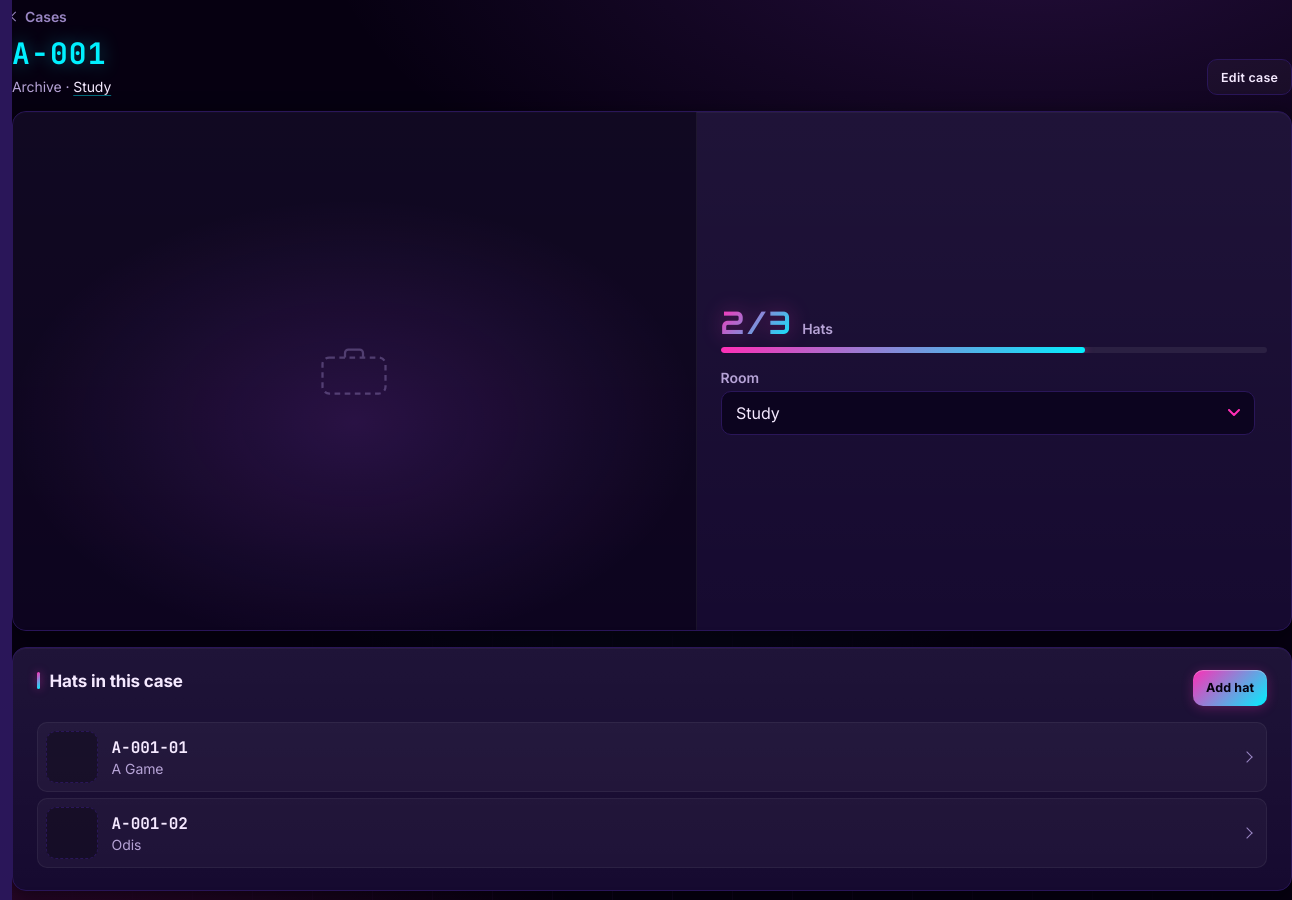
CaseDetailPage — move to another room › puts the old room back, with the reason, when the server refuses
The image size is (1292, 900).
Select "Den" in the dropdown labelled "Room": (988, 413) [721, 391, 1255, 435]
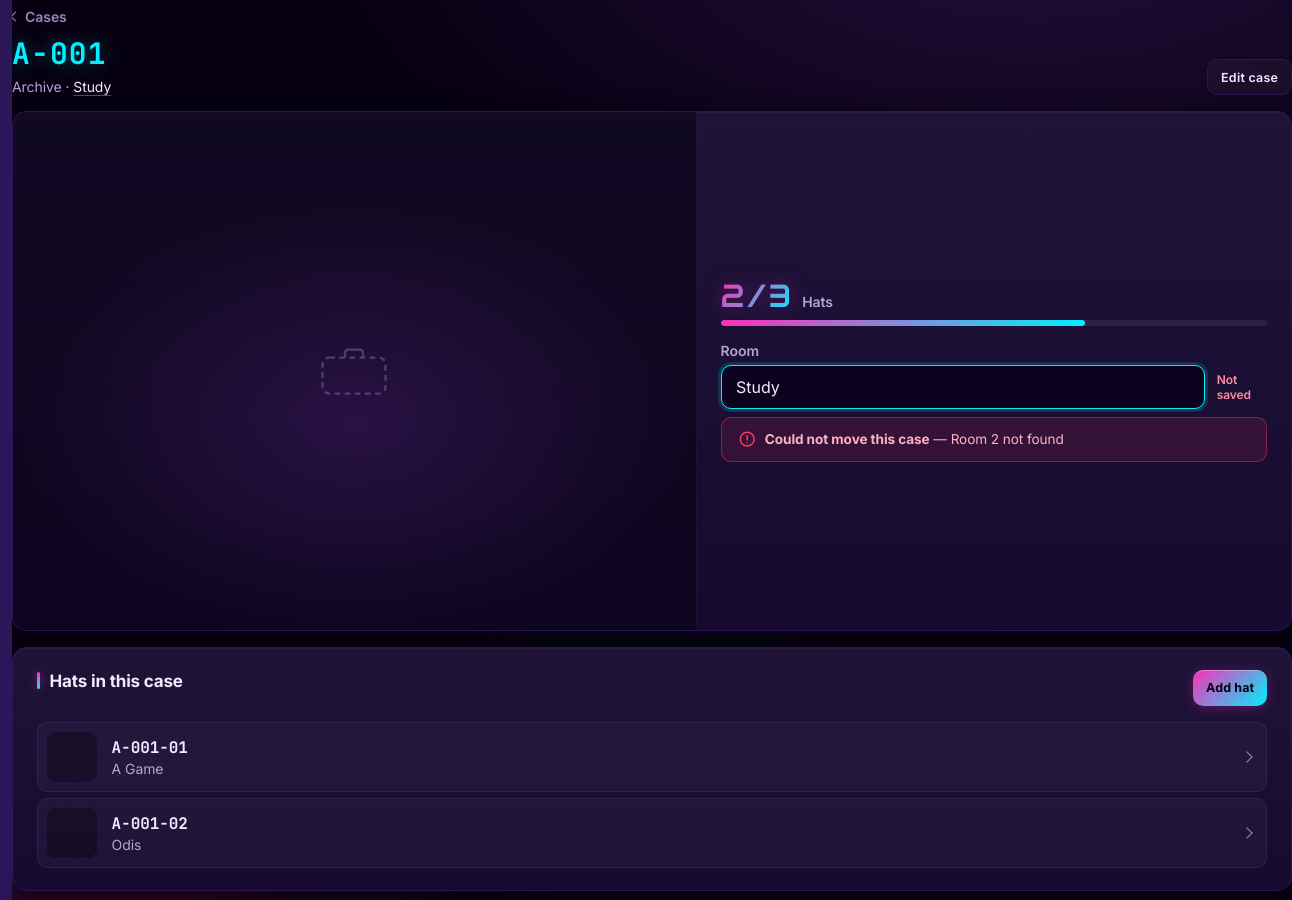
Result: the message "Could not move this case — Room 2 not found" is shown at [721, 417, 1267, 462]
Result: the text "Not saved" is shown at [1217, 372, 1251, 402]
